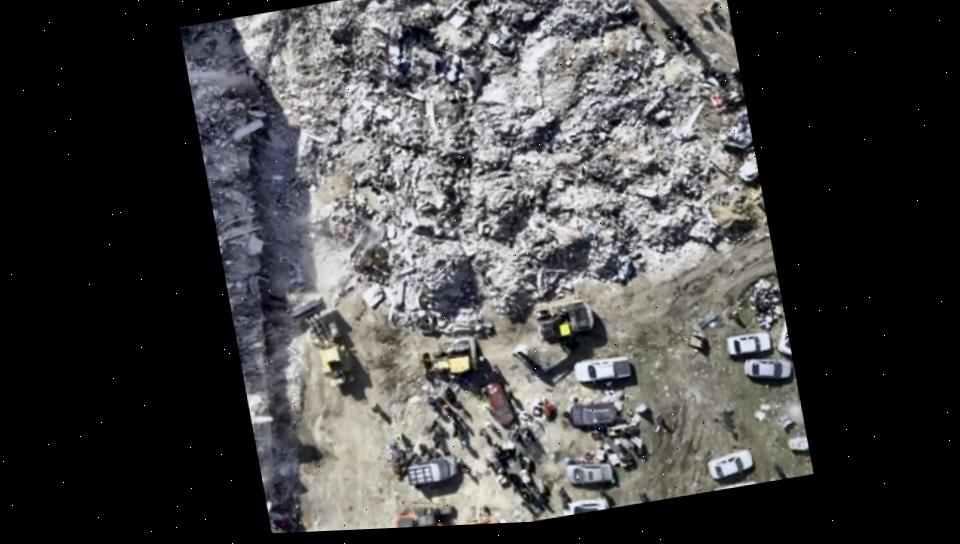kapali: (234, 0, 381, 418)
